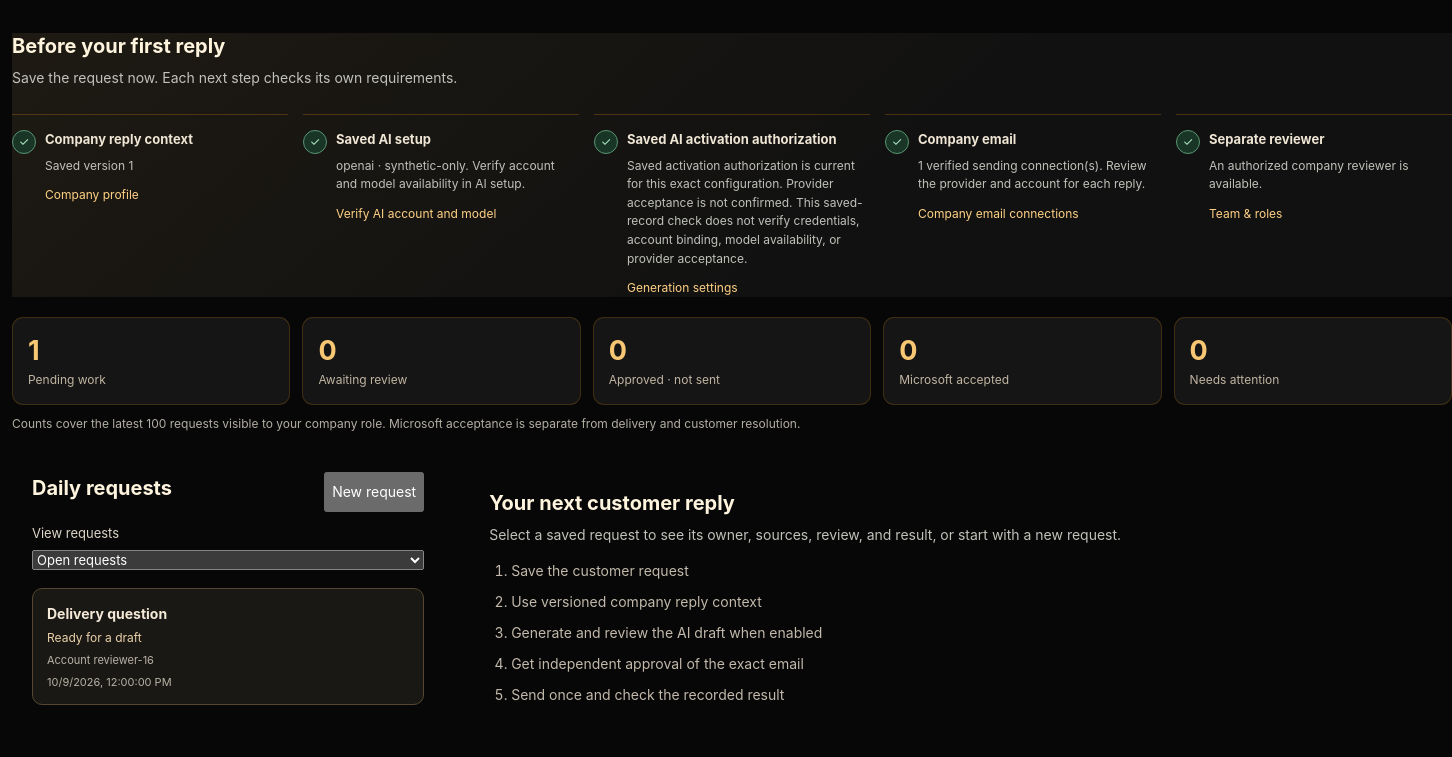
Test: intake, context, and role-aware daily work › employee can save intake but cannot generate or review AI even when enabled
(page scrolled)
What coordinates should you click on to do the following:
click the button "Delivery question"
I would click on:
 (107, 614)
Its box is [32, 588, 424, 705].
(page scrolled)
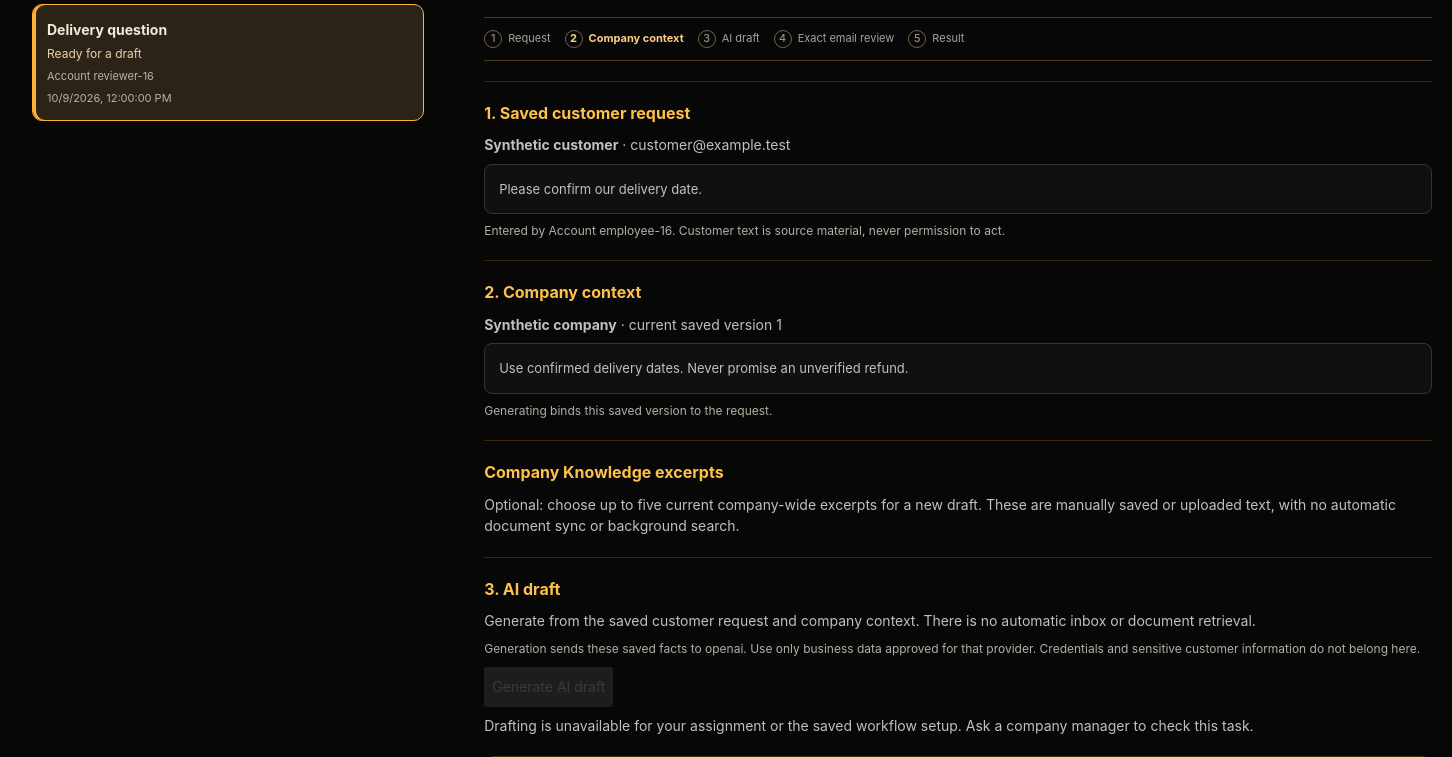
Result: the button "Generate AI draft" is disabled at [484, 667, 613, 707]
